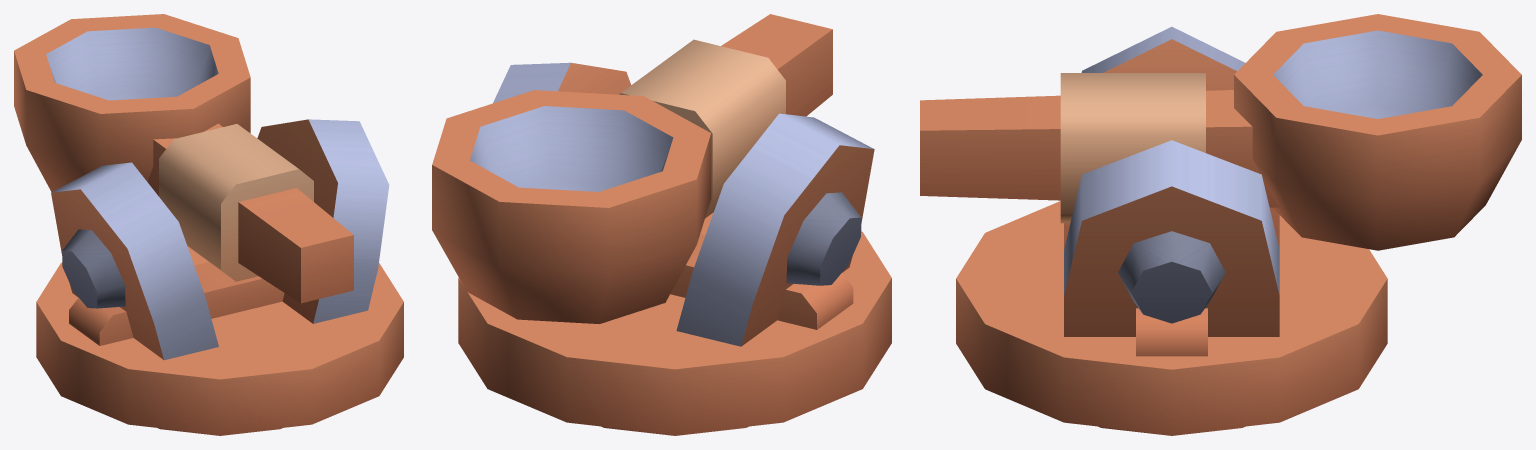
Rendered from weapon-catapult.fbx.
The picture shows the model from 3 angles, left to right: view 1: azimuth 30°, elevation 25°; view 2: azimuth 150°, elevation 25°; view 3: azimuth 270°, elevation 25°; orthographic projection. The views are drawn at different scales.
Visible parts, largest first — view 1: weapon-catapult, catapult; view 2: weapon-catapult, catapult; view 3: weapon-catapult, catapult.
Part boxes in pixels (left/top/right/bottom): weapon-catapult: left=36, top=119, right=403, bottom=435; catapult: left=14, top=14, right=353, bottom=303; weapon-catapult: left=458, top=62, right=891, bottom=435; catapult: left=432, top=14, right=832, bottom=323; weapon-catapult: left=956, top=26, right=1387, bottom=435; catapult: left=920, top=14, right=1521, bottom=250.
Bounding box in the file's own units: 60 × 46.25 × 83.66.
